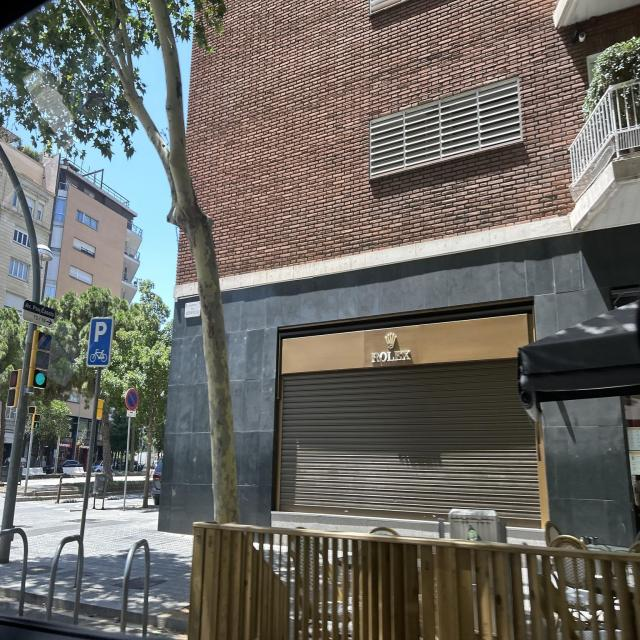car: (62, 459, 84, 476)
